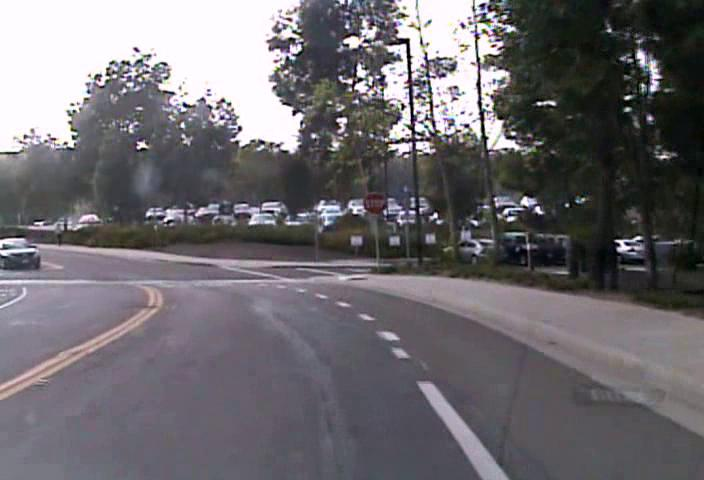stop: (362, 191, 388, 215)
